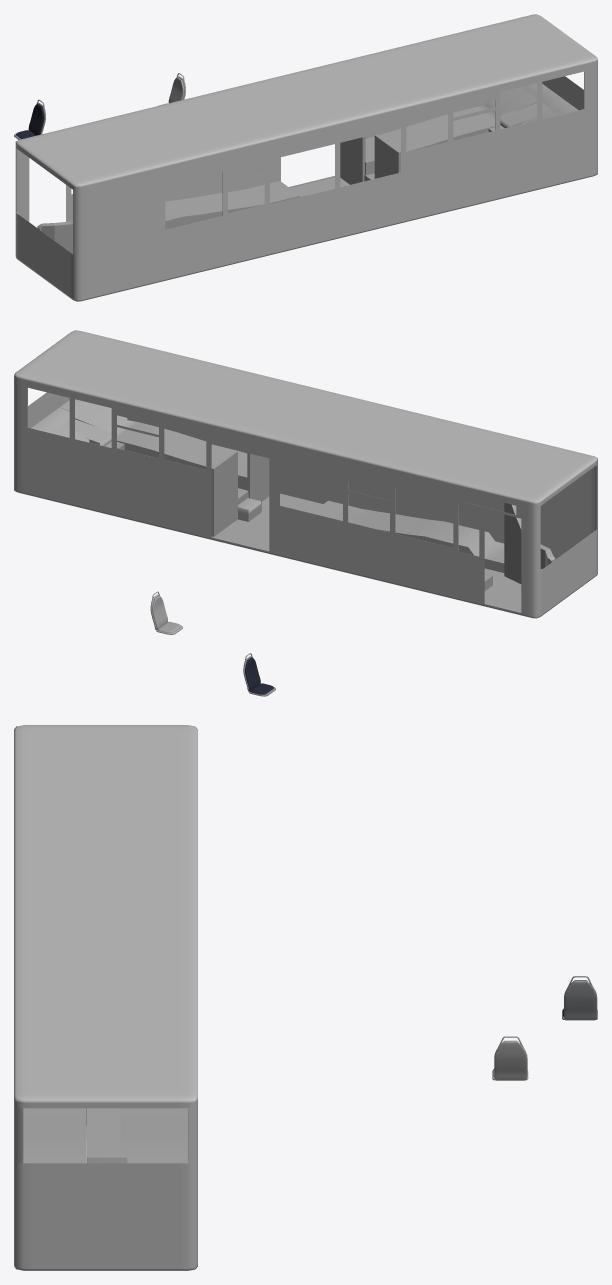
File: bus_windows_chairmodel.fbx
3 views of the same model, one above another, from view 1: azimuth 30°, elevation 25°; view 2: azimuth 150°, elevation 25°; view 3: azimuth 270°, elevation 25° (orthographic). The views are drawn at different scales.
Parts seen in each view (by area): view 1: pCube10, pasted__pasted__pCube7 (×2), pCube9, pCube5, pasted__pCube5, pasted__pCube6, polySurface5, pPlane1, pasted__pasted__pasted__pCube7; view 2: pCube10, pasted__pasted__pasted__pCube7, pasted__pCube9, pPlane1, pCube5, pasted__pCube6, pasted__pasted__pCube7 (×2), pasted__pCube5, polySurface5, pasted__pCube2; view 3: pCube10, pasted__pasted__pCube7, pasted__pasted__pasted__pCube7, pasted__pCube2, polySurface5, pasted__pasted__pCube8.
Boxes of the visible parts, x1,y1,x2,y2 form: pCube10: (15, 14, 597, 301); pasted__pasted__pCube7 (×2): (365, 83, 562, 175); pCube9: (165, 181, 300, 229); pCube5: (340, 136, 365, 184); pasted__pCube5: (374, 134, 400, 178); pasted__pCube6: (37, 221, 72, 253); polySurface5: (14, 99, 45, 139); pPlane1: (78, 177, 349, 299); pasted__pasted__pasted__pCube7: (522, 99, 578, 123); pCube10: (14, 330, 597, 618); pasted__pasted__pasted__pCube7: (60, 399, 247, 490); pasted__pCube9: (311, 500, 504, 572); pPlane1: (211, 493, 521, 612); pCube5: (211, 451, 237, 536); pasted__pCube6: (504, 503, 555, 583); pasted__pasted__pCube7 (×2): (22, 407, 124, 488); pasted__pCube5: (247, 453, 269, 501); polySurface5: (243, 653, 275, 696); pasted__pCube2: (238, 488, 261, 521); pCube10: (14, 725, 197, 1270); pasted__pasted__pCube7: (120, 1108, 188, 1163); pasted__pasted__pasted__pCube7: (23, 1108, 85, 1163); pasted__pCube2: (86, 1108, 120, 1162); polySurface5: (562, 976, 597, 1020); pasted__pasted__pCube8: (494, 1041, 527, 1079).
Size of the model in its own units: 308 by 71.92 by 202.
